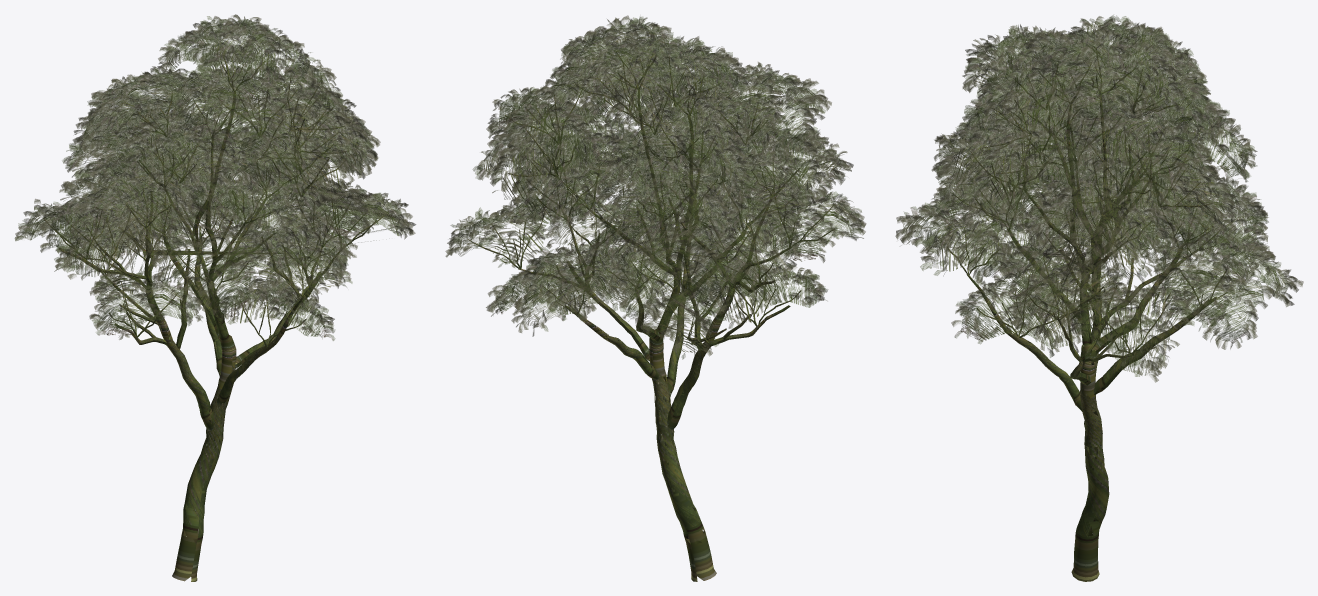
Rendered from tree_urban.glb.
3 views of the same model, side by side, from view 1: azimuth 30°, elevation 25°; view 2: azimuth 150°, elevation 25°; view 3: azimuth 270°, elevation 25° (orthographic). The views are drawn at different scales.
Visible parts, largest first — view 1: trunk_Fast-treetop_0 (×2), trunk_Fast-trunk_0; view 2: trunk_Fast-treetop_0 (×2), trunk_Fast-trunk_0; view 3: trunk_Fast-treetop_0 (×2), trunk_Fast-trunk_0.
Boxes of the visible parts, left/top/right/bottom form: trunk_Fast-treetop_0 (×2): left=14, top=14, right=415, bottom=340; trunk_Fast-trunk_0: left=43, top=57, right=388, bottom=581; trunk_Fast-treetop_0 (×2): left=445, top=15, right=866, bottom=359; trunk_Fast-trunk_0: left=467, top=52, right=833, bottom=581; trunk_Fast-treetop_0 (×2): left=895, top=15, right=1303, bottom=382; trunk_Fast-trunk_0: left=948, top=50, right=1226, bottom=581.
Size of the model in its own units: 670 by 948 by 604.
Materials: 2 (2 with a texture image).
